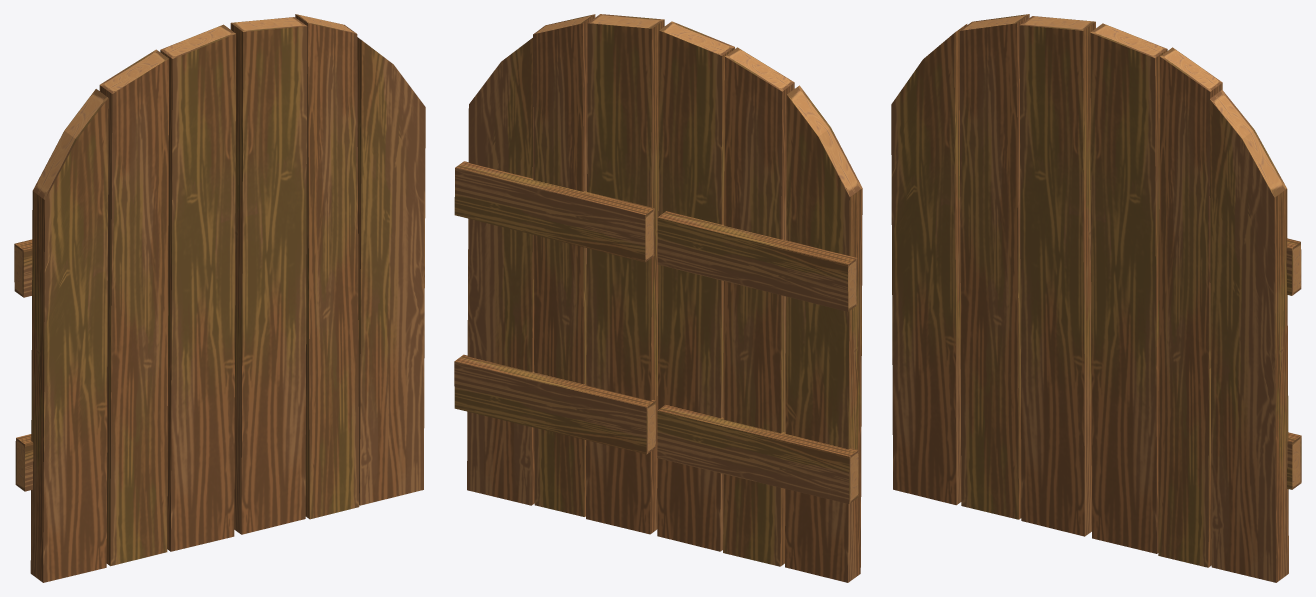
Rendered from WindowShutters_Wide_Round_Closed.gltf.
3 renders of one model, left to right at view 1: azimuth 30°, elevation 25°; view 2: azimuth 150°, elevation 25°; view 3: azimuth 330°, elevation 25°, orthographic.
Parts seen in each view (by area): view 1: WindowShutters_Wide_Round_Closed; view 2: WindowShutters_Wide_Round_Closed; view 3: WindowShutters_Wide_Round_Closed.
Boxes of the visible parts, x1,y1,x2,y2 form: WindowShutters_Wide_Round_Closed: [14, 14, 425, 582]; WindowShutters_Wide_Round_Closed: [454, 14, 862, 582]; WindowShutters_Wide_Round_Closed: [891, 14, 1301, 582].
Size of the model in its own units: 1.35 by 1.65 by 0.1358.
1 material, 1 textured.
